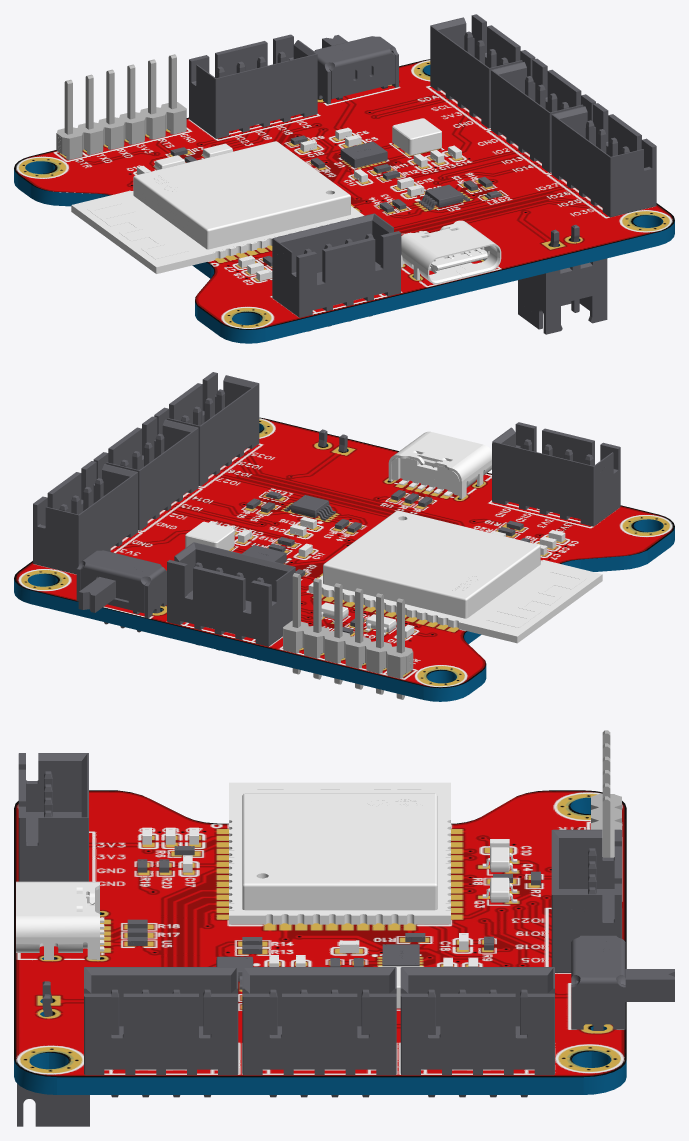
File: board.glb
3 views of the same model, one above another, from view 1: azimuth 30°, elevation 25°; view 2: azimuth 150°, elevation 25°; view 3: azimuth 270°, elevation 25° (orthographic). The views are drawn at different scales.
Visible parts, largest first — view 1: Board-mesh, U4-mesh, CN6-mesh, CN1-mesh, CN3-mesh, H1-mesh, CN7-mesh, CN4-mesh, CN2-mesh, USB1-mesh, SW1-mesh, L1-mesh (+2 smaller); view 2: Board-mesh, U4-mesh, CN1-mesh, CN6-mesh, CN7-mesh, H1-mesh, CN3-mesh, CN4-mesh, USB1-mesh, SW1-mesh (×2), L1-mesh, U3-mesh; view 3: Board-mesh, U4-mesh, CN4-mesh, CN3-mesh, CN7-mesh, CN6-mesh, CN1-mesh, SW1-mesh (×2), USB1-mesh, CN2-mesh, H1-mesh, U2-mesh (+2 smaller).
Boxes of the visible parts, left/top/right/bottom form: Board-mesh: left=14, top=59, right=674, bottom=343; U4-mesh: left=71, top=141, right=364, bottom=273; CN6-mesh: left=272, top=213, right=401, bottom=331; CN1-mesh: left=189, top=34, right=317, bottom=138; CN3-mesh: left=551, top=103, right=656, bottom=217; H1-mesh: left=56, top=54, right=186, bottom=159; CN7-mesh: left=430, top=14, right=535, bottom=128; CN4-mesh: left=491, top=58, right=595, bottom=172; CN2-mesh: left=518, top=224, right=607, bottom=334; USB1-mesh: left=401, top=220, right=501, bottom=284; SW1-mesh: left=314, top=36, right=398, bottom=104; L1-mesh: left=392, top=118, right=441, bottom=155; Board-mesh: left=14, top=417, right=674, bottom=701; U4-mesh: left=308, top=510, right=602, bottom=643; CN1-mesh: left=167, top=542, right=295, bottom=660; CN6-mesh: left=492, top=422, right=620, bottom=526; CN7-mesh: left=33, top=461, right=137, bottom=574; H1-mesh: left=283, top=573, right=413, bottom=699; CN3-mesh: left=154, top=372, right=259, bottom=486; CN4-mesh: left=93, top=416, right=198, bottom=530; USB1-mesh: left=388, top=431, right=491, bottom=498; SW1-mesh (×2): left=76, top=550, right=166, bottom=618; L1-mesh: left=185, top=521, right=234, bottom=550; U3-mesh: left=284, top=495, right=335, bottom=520; Board-mesh: left=14, top=790, right=626, bottom=1094; U4-mesh: left=229, top=782, right=450, bottom=924; CN4-mesh: left=242, top=967, right=396, bottom=1097; CN3-mesh: left=84, top=967, right=238, bottom=1097; CN7-mesh: left=400, top=967, right=554, bottom=1097; CN6-mesh: left=18, top=753, right=88, bottom=881; CN1-mesh: left=551, top=829, right=621, bottom=972; SW1-mesh (×2): left=571, top=935, right=674, bottom=1030; USB1-mesh: left=16, top=881, right=104, bottom=959; CN2-mesh: left=17, top=981, right=89, bottom=1126; H1-mesh: left=591, top=730, right=621, bottom=857; U2-mesh: left=382, top=944, right=419, bottom=966.
Bounding box in the file's own units: 0.055 × 0.0175 × 0.0535.
Materials: 6 (2 with a texture image).
